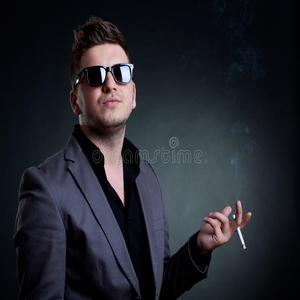cigarette: (232, 213, 247, 255)
